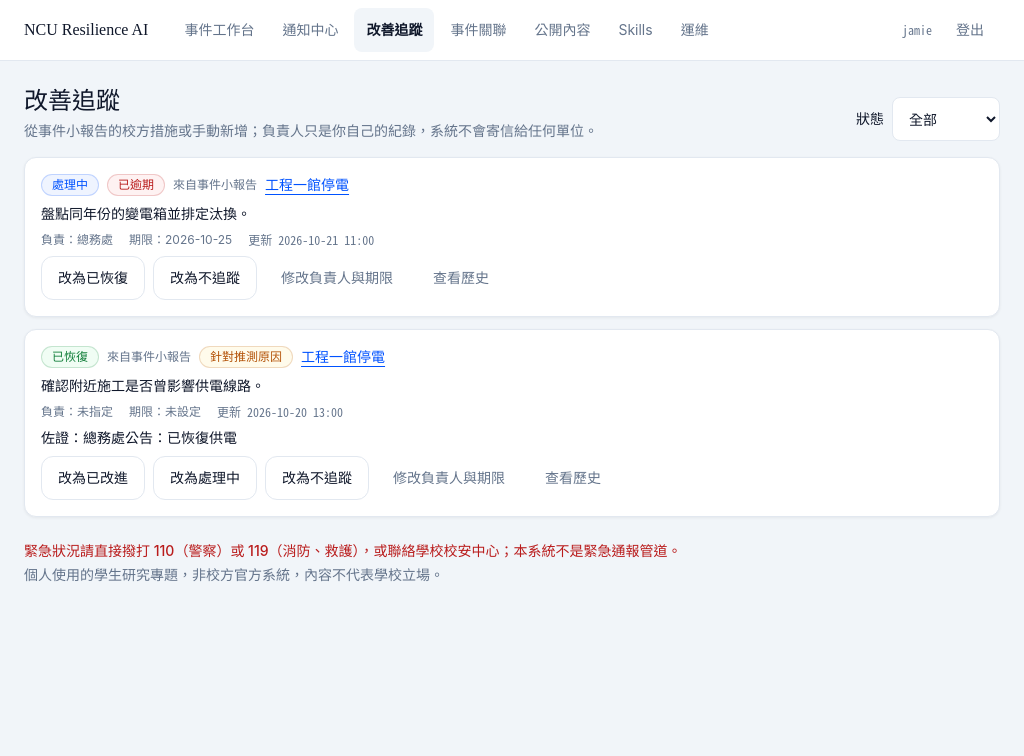
Test: ResponseActions › 只顯示合法的下一步；恢復需要佐證，送出後更新狀態
The width and height of the screenshot is (1024, 756).
Click the button "改為已恢復".
click(93, 278)  # box x1=41 y1=256 x2=145 y2=300
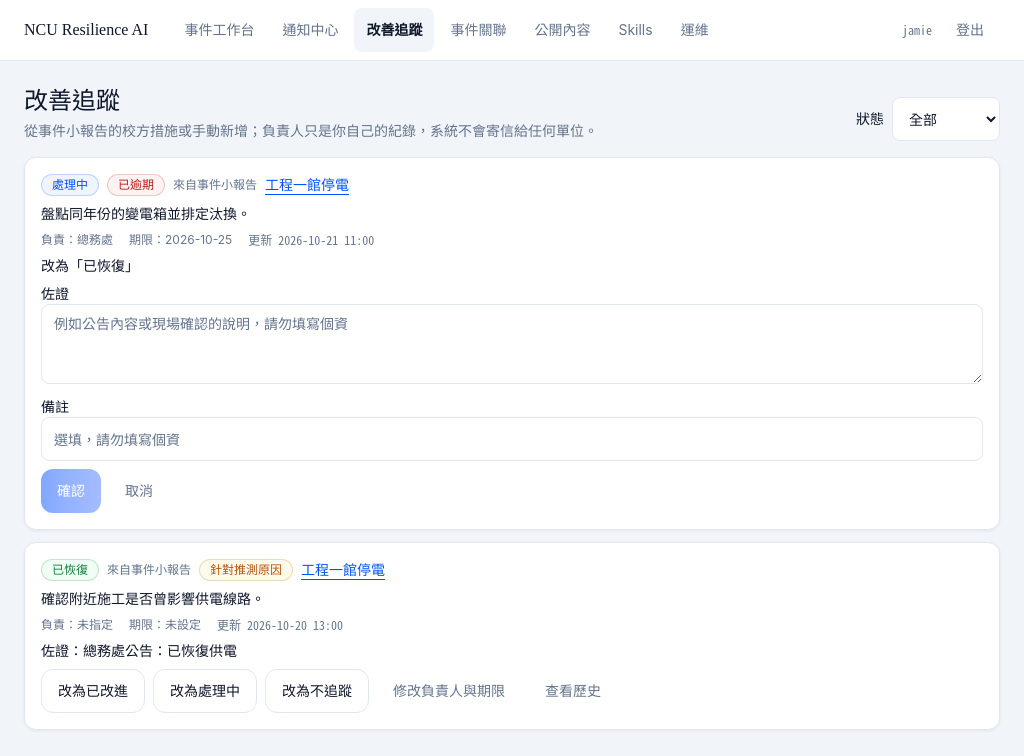
expect the button "確認" is disabled: met, box x1=41 y1=469 x2=101 y2=513
Type "已換新變電箱" into the text box labelled "佐證".
click(512, 344); type("已換新變電箱")  # box x1=41 y1=304 x2=983 y2=384
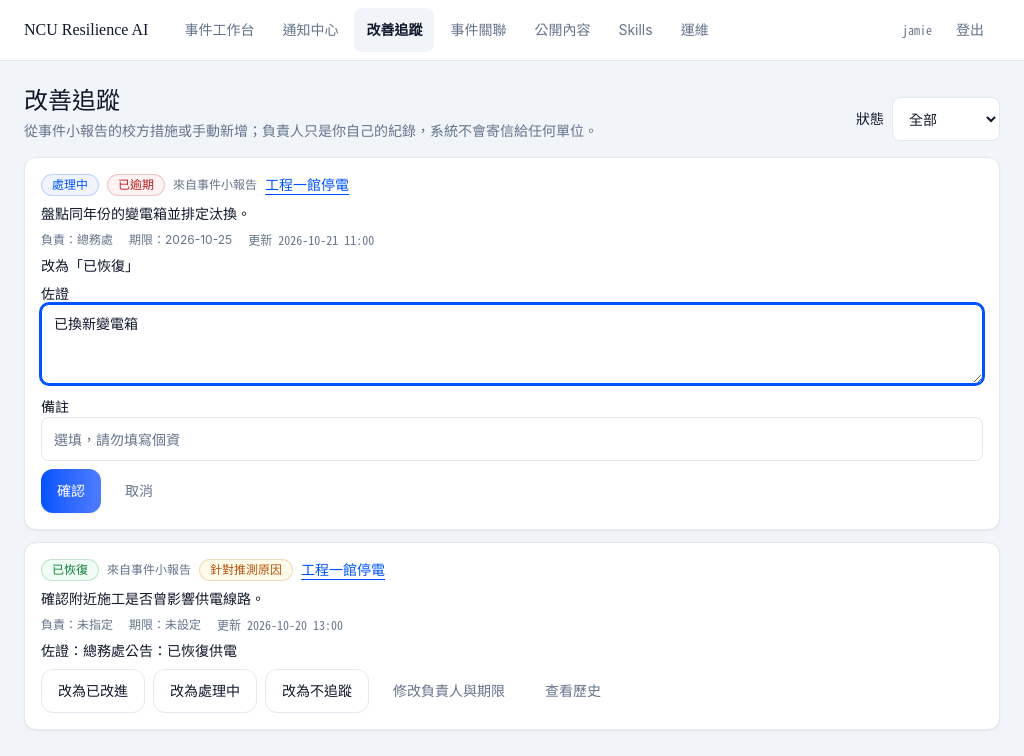
Click the button "確認".
click(71, 491)  # box x1=41 y1=469 x2=101 y2=513
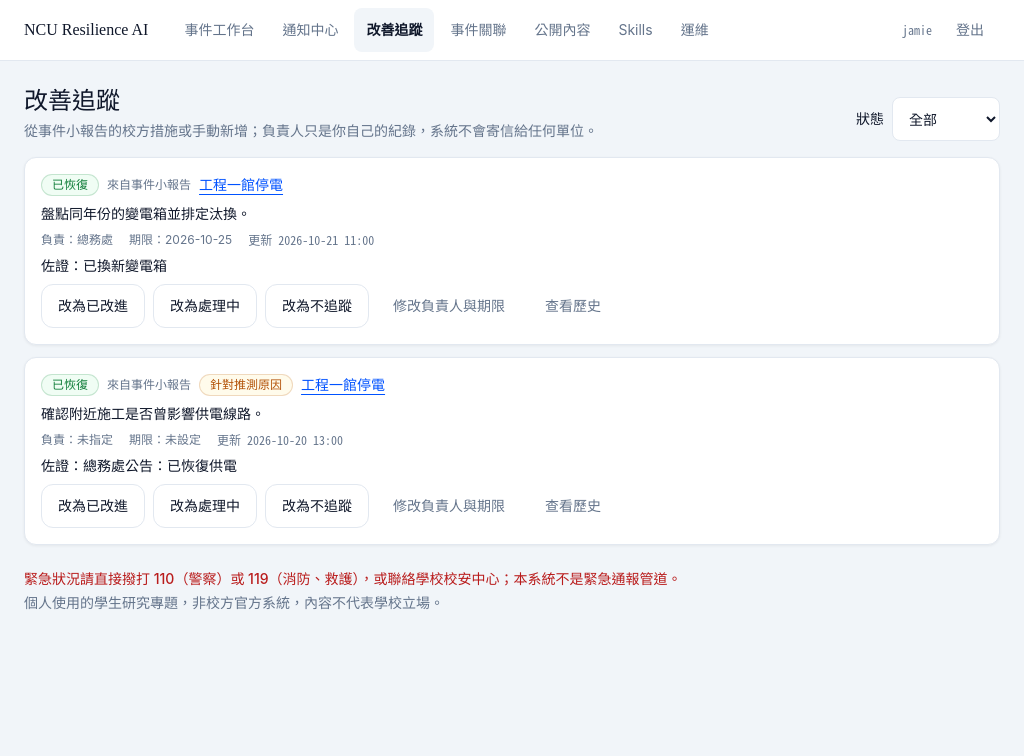
expect the 1st text "已恢復" is shown: met, box x1=41 y1=174 x2=99 y2=196
expect the text "佐證：已換新變電箱" is shown: met, box x1=41 y1=257 x2=167 y2=274
